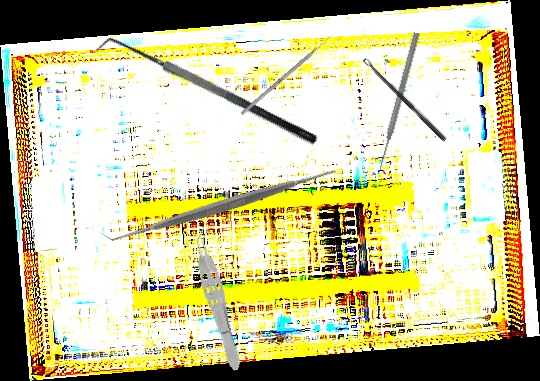Pusher: (240, 30, 338, 116), (375, 31, 421, 174)
Spatula Surgical: (99, 81, 347, 330), (94, 23, 320, 163)
Surgical Spoon: (362, 57, 448, 142)
Tissue Forceps: (186, 224, 249, 374)
